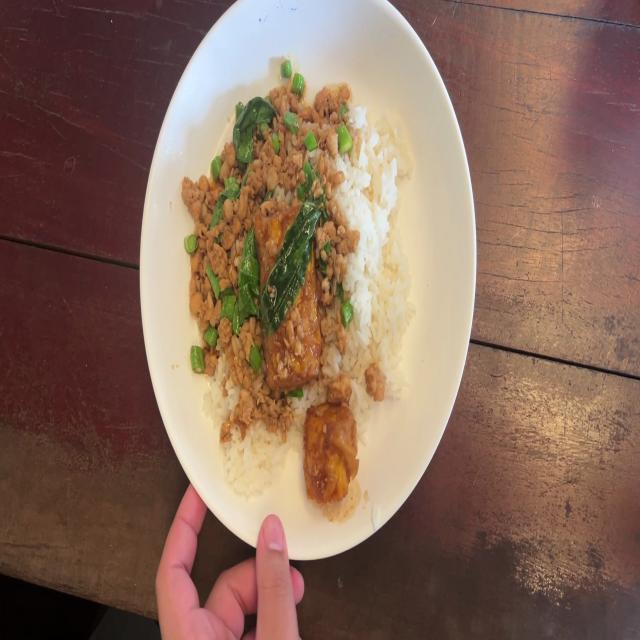01rice: (354, 109, 411, 418), (215, 426, 282, 498)
fried_tofo: (260, 213, 320, 385), (309, 406, 354, 493)
minced_pork: (184, 88, 262, 430), (258, 62, 354, 203), (316, 207, 349, 356)
stir_fried_basil: (183, 62, 414, 505)
